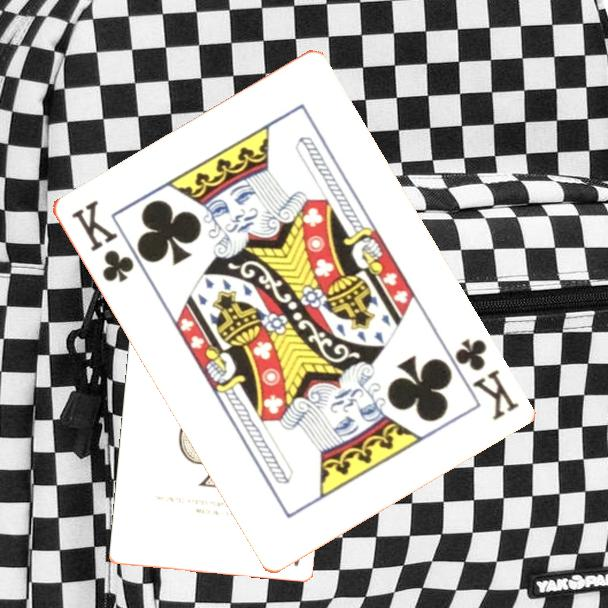c13: (450, 334, 522, 424), (67, 196, 137, 285)
